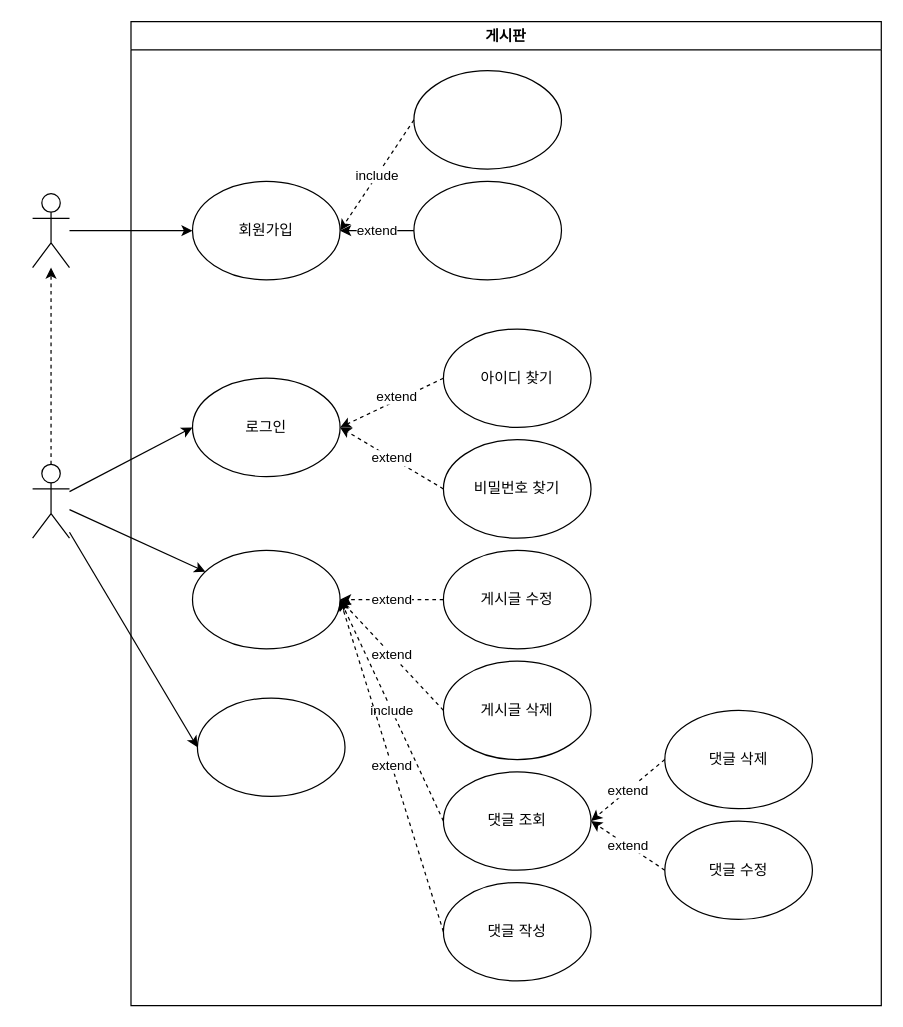
Image size: 903x1027. Some labels were removed from this diagram. The box of each missing label's shape, as (x1, y1, x2, y2) in pixels:
SNS 가입: (413, 180, 561, 280)
게시글 작성: (196, 697, 345, 796)
게시글 조회: (191, 549, 340, 649)
사용자: (31, 192, 69, 268)
인증 회원: (31, 463, 69, 538)
중복확인: (413, 69, 561, 169)
